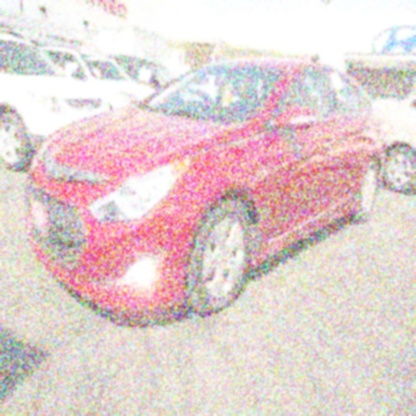Vehicle: (21, 58, 390, 328)
